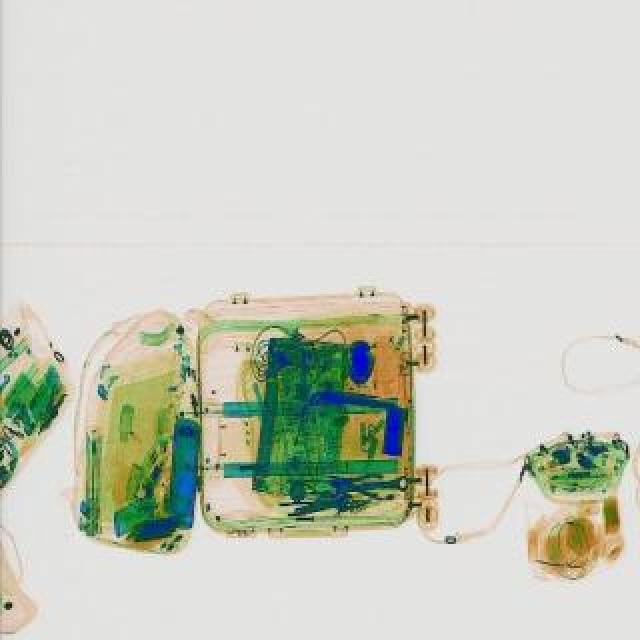scissors: (324, 470, 408, 500), (292, 490, 352, 520)
wrench: (324, 462, 386, 500)
